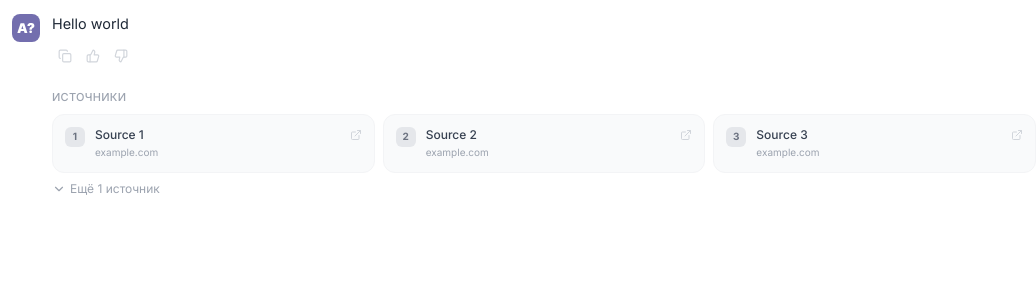
Scenario: AssistantMessage › expands to show all sources on toggle
Click the button "Ещё 1 источник" at (106, 189), box top-left (52, 181), bottom-right (160, 197)
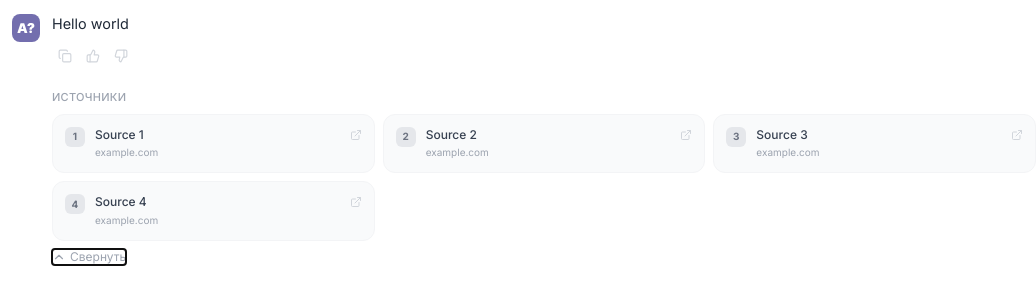
expect the text "Source 4" is shown: met, box top-left (95, 194), bottom-right (147, 209)
expect the button "Свернуть" is shown: met, box top-left (52, 249), bottom-right (126, 265)
